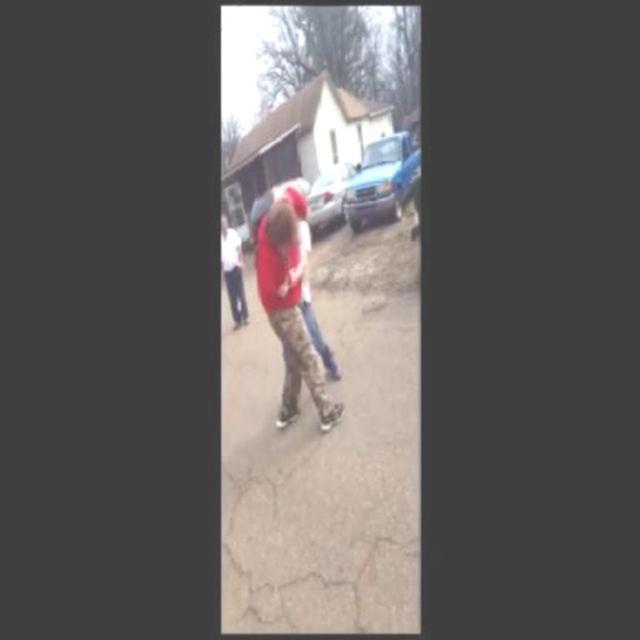fight: (255, 180, 352, 440)
